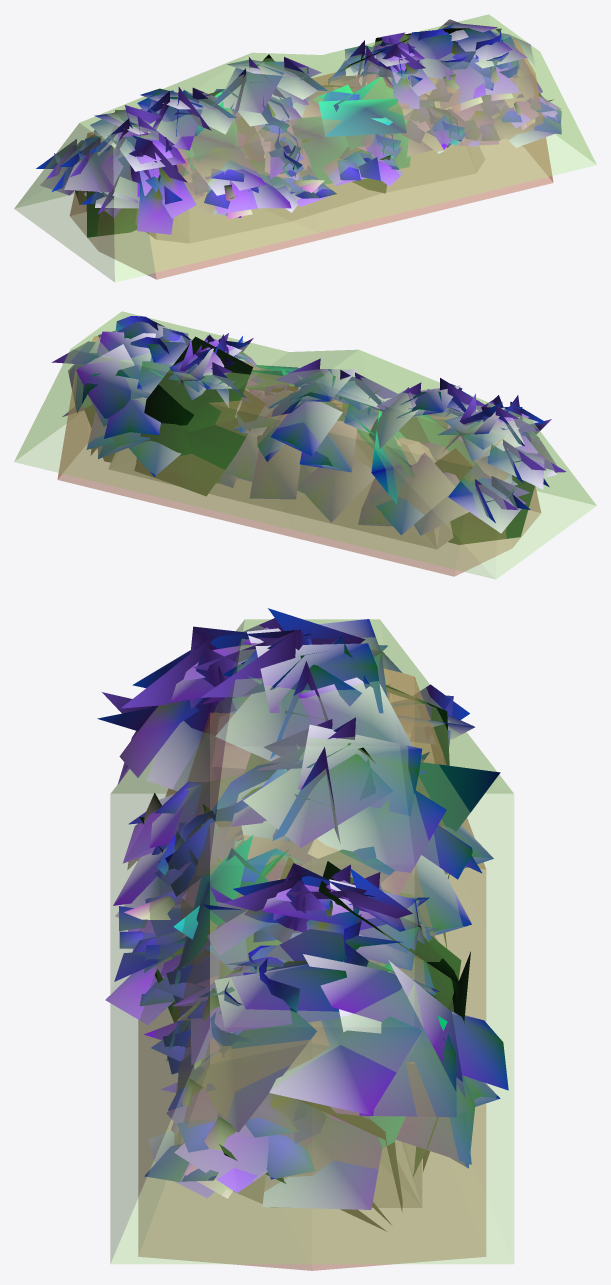
File: tro_bush_wall.dae
3 views of the same model, one above another, from view 1: azimuth 30°, elevation 25°; view 2: azimuth 150°, elevation 25°; view 3: azimuth 270°, elevation 25° (orthographic). The views are drawn at different scales.
Parts seen in each view (by area): view 1: Colmesh-1, tree_oak_bush_a450, tree_oak_bush_a150; view 2: Colmesh-1, tree_oak_bush_a450, tree_oak_bush_a150; view 3: Colmesh-1, tree_oak_bush_a450, tree_oak_bush_a150.
Part boxes in pixels (x1,y1,x2,y2): Colmesh-1: (14, 14, 596, 282); tree_oak_bush_a450: (36, 19, 555, 237); tree_oak_bush_a150: (90, 22, 561, 218); Colmesh-1: (14, 311, 596, 579); tree_oak_bush_a450: (52, 316, 566, 544); tree_oak_bush_a150: (52, 316, 540, 530); Colmesh-1: (110, 619, 513, 1270); tree_oak_bush_a450: (97, 608, 507, 1230); tree_oak_bush_a150: (105, 633, 508, 1209).
Size of the model in its own units: 10.86 by 4.07 by 3.22.
